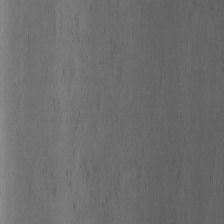silk_spot: (57, 32, 123, 157)
